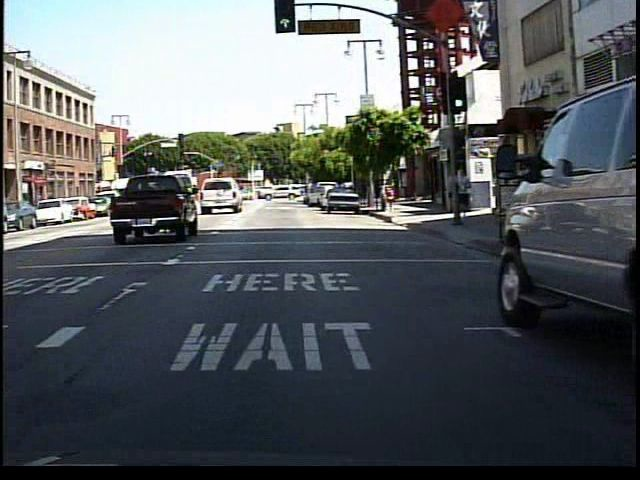person: (451, 161, 474, 225)
